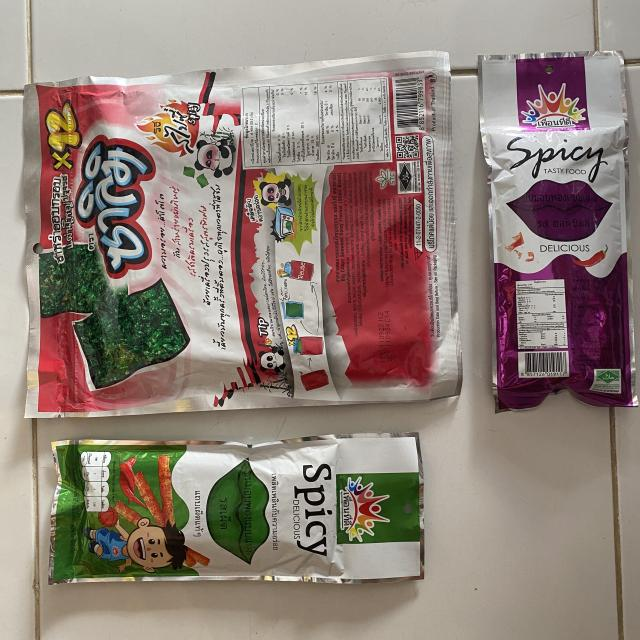plastik: (24, 51, 461, 418), (479, 51, 638, 410), (50, 434, 424, 584)
